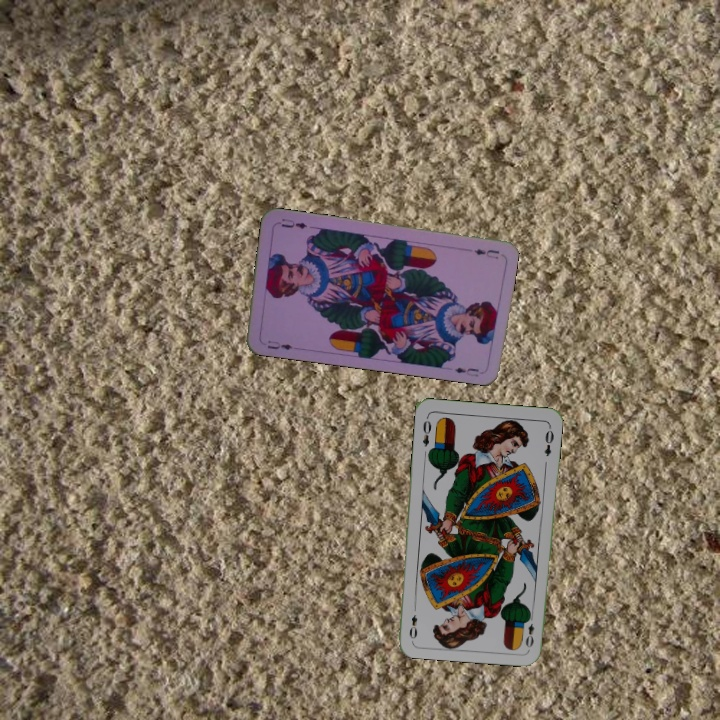EO: (522, 610, 537, 650), (418, 413, 434, 449)
EU: (263, 336, 295, 352), (470, 245, 501, 261)
